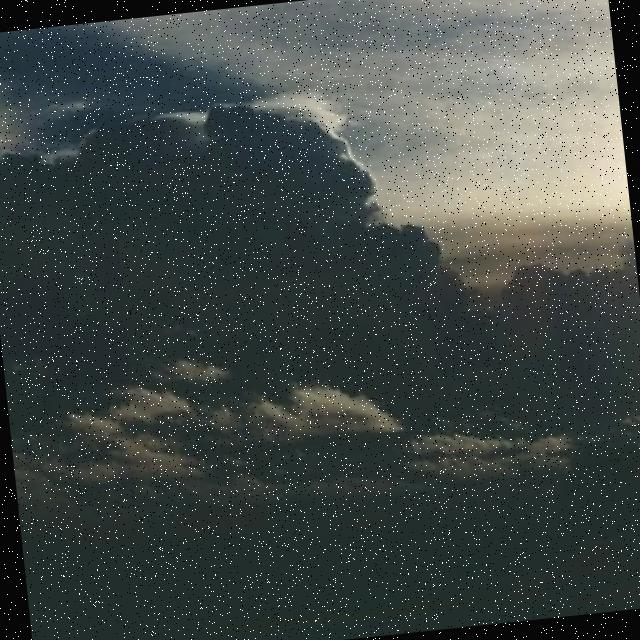St: (1, 12, 640, 625)
